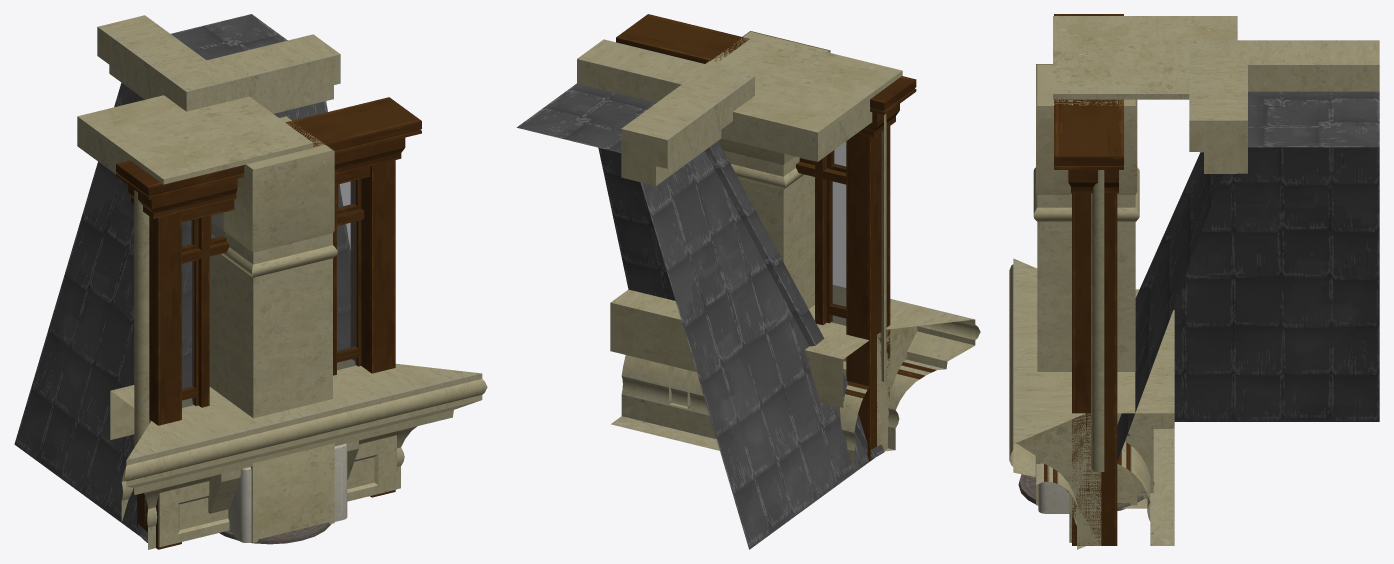
File: kit_trim.glb
3 renders of one model, left to right at view 1: azimuth 30°, elevation 25°; view 2: azimuth 150°, elevation 25°; view 3: azimuth 270°, elevation 25°, orthographic. The views are drawn at different scales.
Visible parts, largest first — view 1: Roof_SlateCornice_Corner, DoorFrame_Wooden, Trim_Column_Top, Brick_CornerColumn_CapShort, Trim_Column_Bottom, Cornice_Trim_L, Cornice_Trim_Center, Trim_Column_Center, Cornice_Trim_90Angle_L, Cornice_Trim_R, Cornice_Trim_90Angle_R, Trim_Wall_Guard (+3 smaller); view 2: Roof_SlateCornice_Corner, DoorFrame_Wooden, Brick_CornerColumn_CapShort, Cornice_Trim_90Angle_L, Trim_Column_Top, Cornice_Trim_L, Cornice_Trim_90Angle_R, Cornice_Trim_Center, Trim_Column_Bottom, Trim_FirstFloor_Window_Columns, Trim_Column_Center; view 3: Roof_SlateCornice_Corner, DoorFrame_Wooden, Brick_CornerColumn_CapShort, Trim_Column_Top, Cornice_Trim_Center, Cornice_Trim_90Angle_L, Cornice_Trim_R, Trim_Column_Center, Trim_FirstFloor_Window_Columns, Trim_Column_Bottom, Cornice_Trim_90Angle_R, Cornice_Trim_L (+3 smaller).
Boxes of the visible parts, bbox=[...] form: Roof_SlateCornice_Corner: bbox=[14, 14, 350, 542]; DoorFrame_Wooden: bbox=[116, 97, 421, 549]; Trim_Column_Top: bbox=[209, 116, 337, 354]; Brick_CornerColumn_CapShort: bbox=[77, 95, 312, 184]; Trim_Column_Bottom: bbox=[211, 116, 334, 542]; Cornice_Trim_L: bbox=[125, 376, 423, 549]; Cornice_Trim_Center: bbox=[144, 376, 424, 524]; Trim_Column_Center: bbox=[209, 324, 332, 418]; Cornice_Trim_90Angle_L: bbox=[158, 359, 364, 513]; Cornice_Trim_R: bbox=[160, 363, 487, 492]; Cornice_Trim_90Angle_R: bbox=[110, 374, 418, 522]; Trim_Wall_Guard: bbox=[158, 435, 396, 547]; Roof_SlateCornice_Corner: bbox=[517, 39, 884, 549]; DoorFrame_Wooden: bbox=[616, 14, 916, 461]; Brick_CornerColumn_CapShort: bbox=[714, 35, 902, 161]; Cornice_Trim_90Angle_L: bbox=[610, 285, 916, 450]; Trim_Column_Top: bbox=[705, 31, 830, 264]; Cornice_Trim_L: bbox=[833, 285, 980, 451]; Cornice_Trim_90Angle_R: bbox=[680, 319, 869, 471]; Cornice_Trim_Center: bbox=[877, 326, 917, 450]; Trim_Column_Bottom: bbox=[706, 31, 828, 197]; Trim_FirstFloor_Window_Columns: bbox=[881, 114, 886, 387]; Trim_Column_Center: bbox=[785, 176, 814, 308]; Roof_SlateCornice_Corner: bbox=[1117, 40, 1379, 461]; DoorFrame_Wooden: bbox=[1054, 14, 1123, 545]; Brick_CornerColumn_CapShort: bbox=[1053, 16, 1237, 99]; Trim_Column_Top: bbox=[1033, 64, 1139, 304]; Cornice_Trim_Center: bbox=[1009, 289, 1101, 545]; Cornice_Trim_90Angle_L: bbox=[1009, 289, 1174, 545]; Cornice_Trim_R: bbox=[1009, 290, 1085, 549]; Trim_Column_Center: bbox=[1037, 195, 1135, 371]; Trim_FirstFloor_Window_Columns: bbox=[1091, 170, 1104, 471]; Trim_Column_Bottom: bbox=[1036, 64, 1137, 505]; Cornice_Trim_90Angle_R: bbox=[1009, 289, 1174, 508]; Cornice_Trim_L: bbox=[1009, 258, 1071, 417].
Size of the model in its own units: 3.06 by 3.21 by 2.53.
4 materials, 3 textured.
